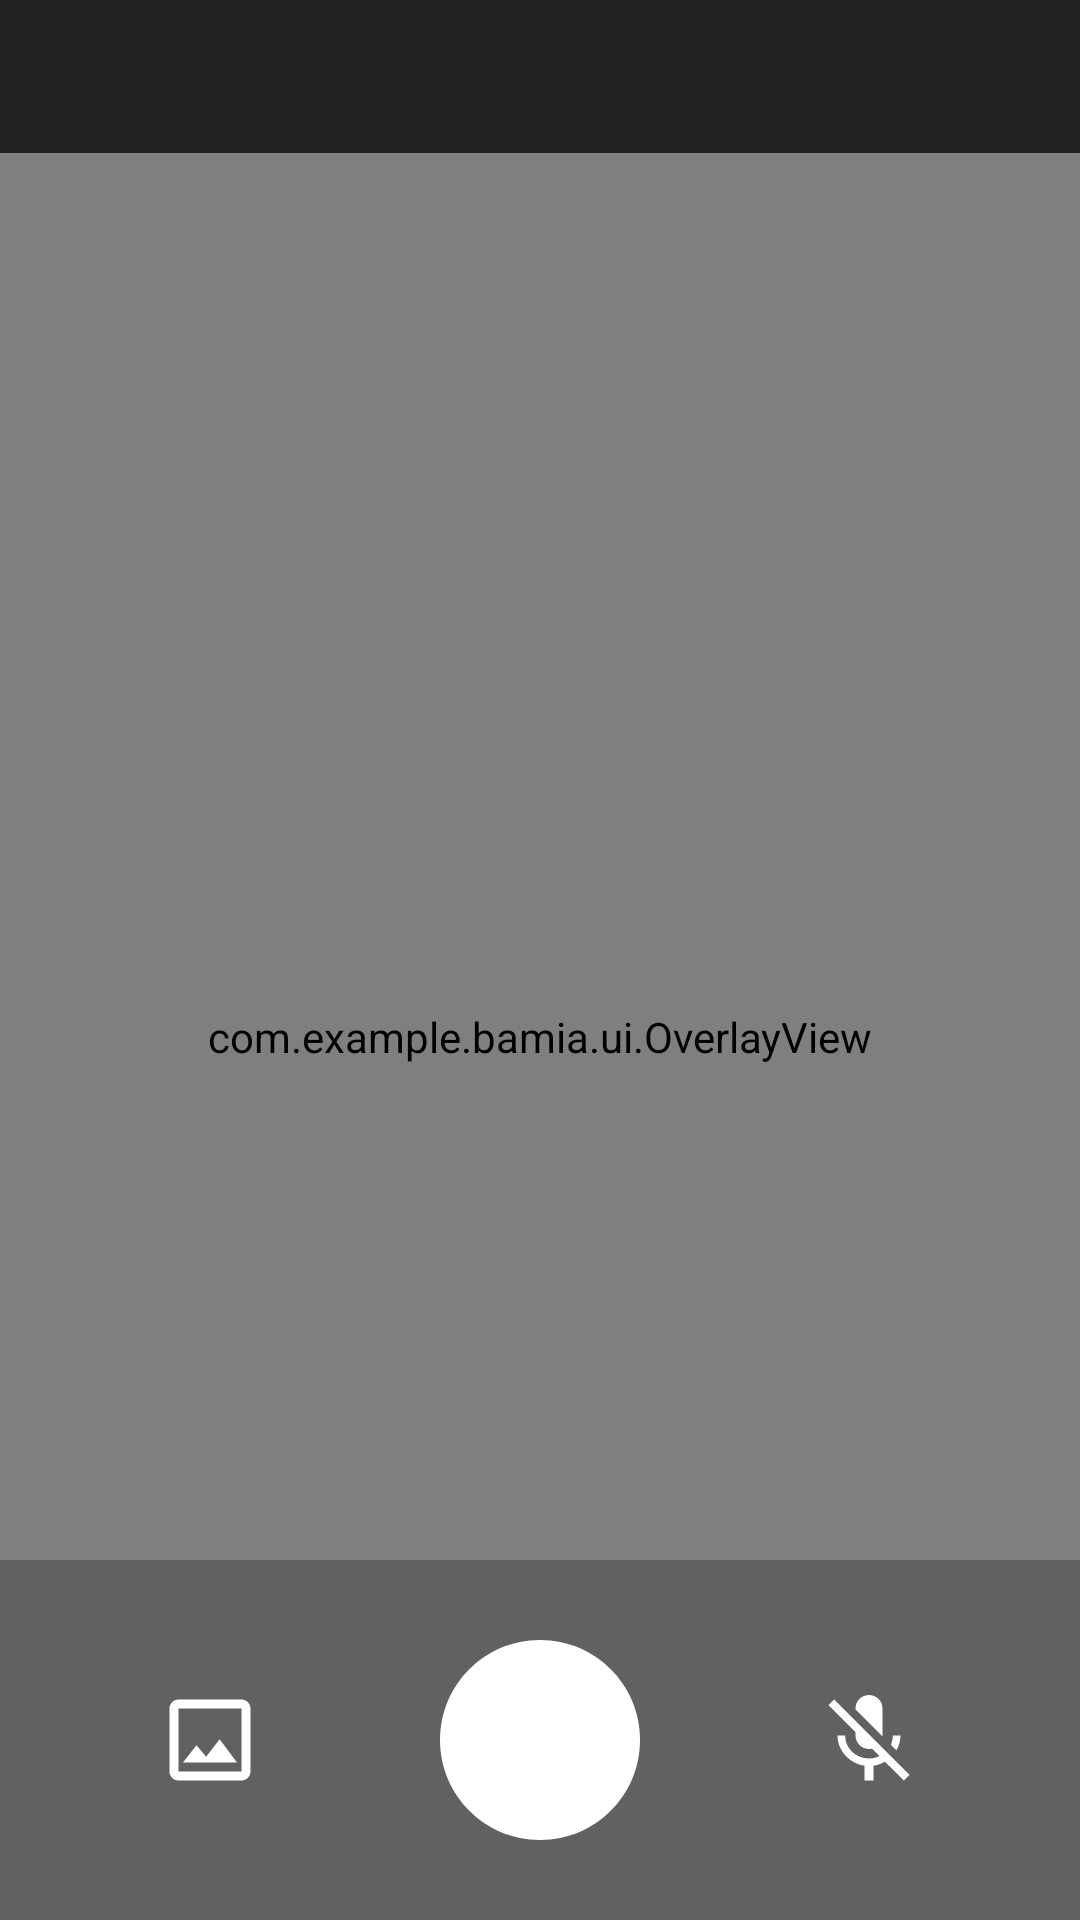

Locate icon controls on the screen. Image size 1080*1920, boxes as BBox(x1, y1, x2, y2).
갤러리: BBox(169, 1699, 251, 1781)
마이크 토글: BBox(828, 1695, 910, 1781)
